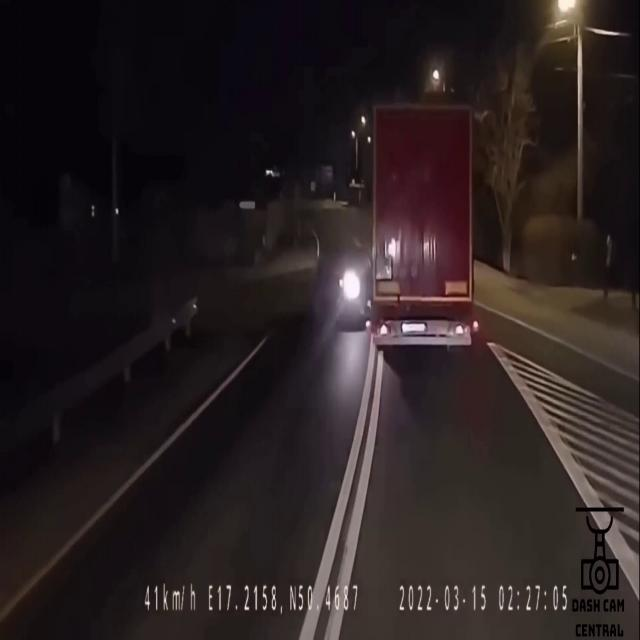accident: (310, 105, 476, 342)
